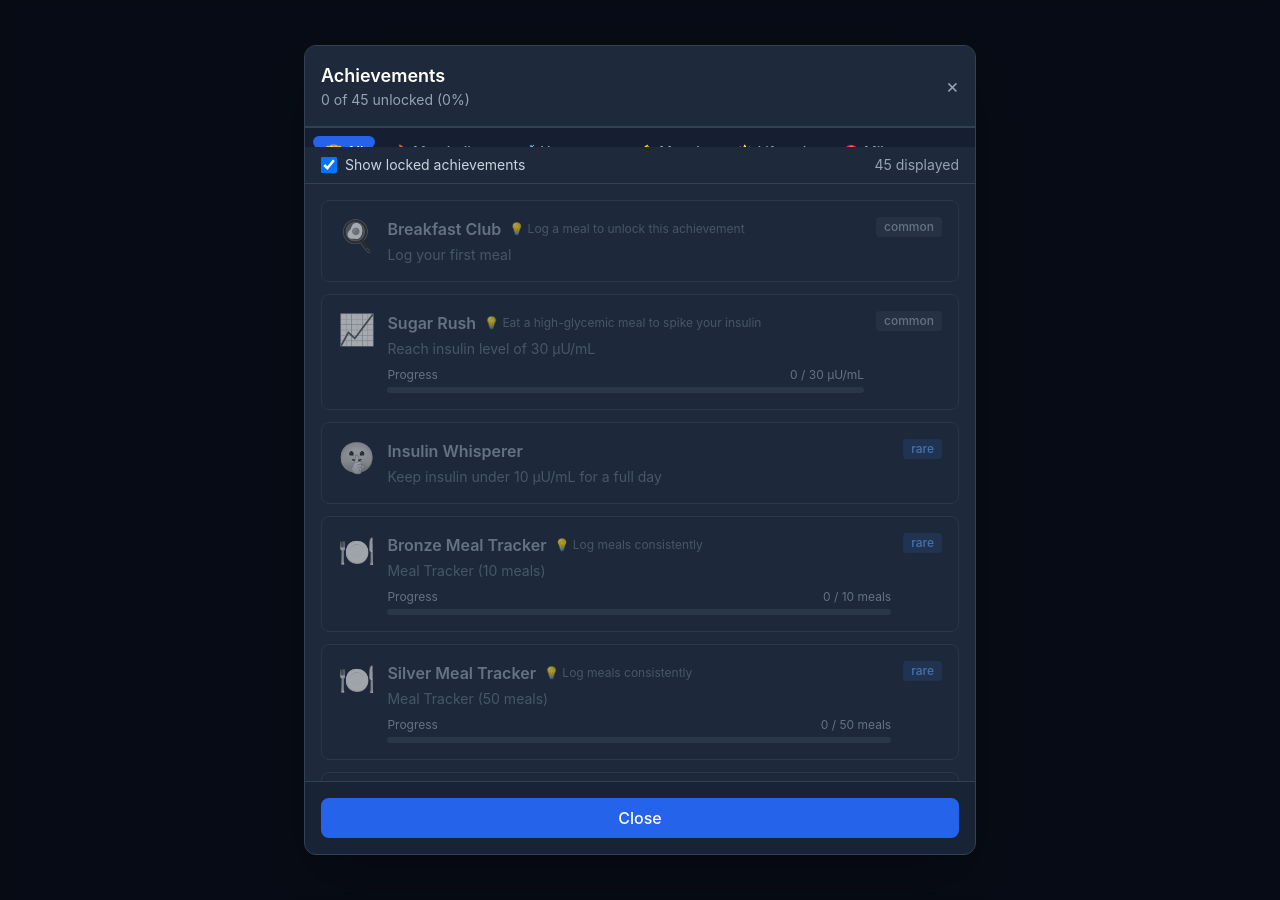
Test case: AchievementsPanel › should handle category switching
Expected: the button "🏆All" is shown, [313,136,376,147]
What coordinates should you click on to do the following:
click the button "💪Muscle"
I would click on:
 (673, 142)
Its box is [626,136,720,148].
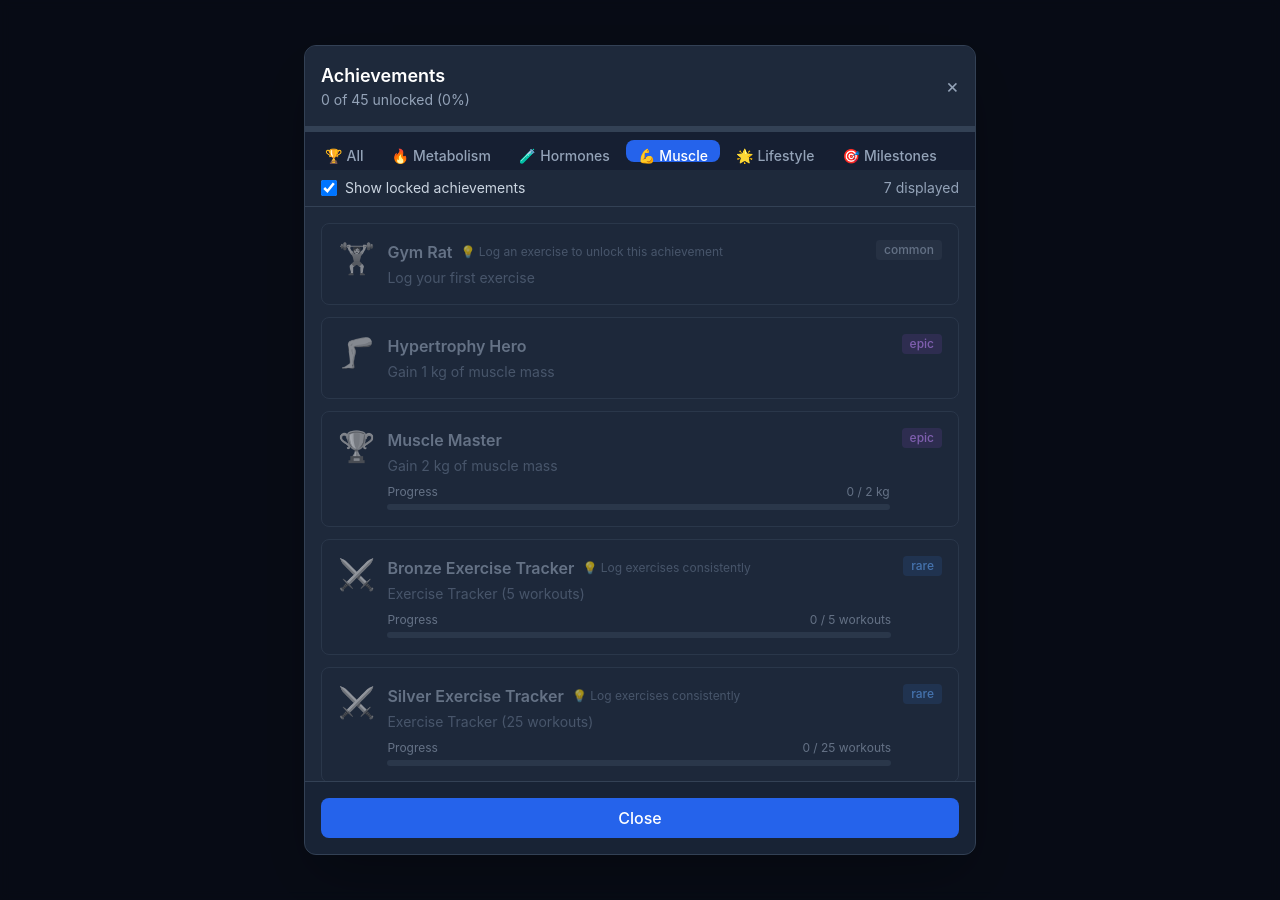
Expected: the heading "Gym Rat" is shown, [387,240,452,264]
